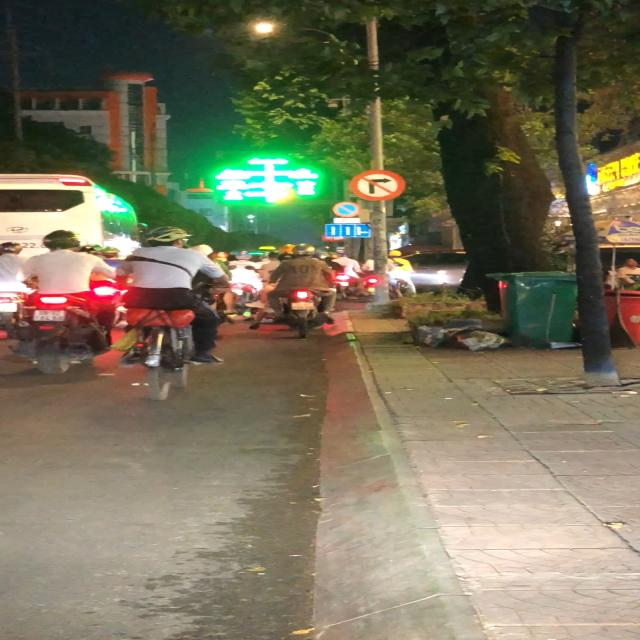Bien bao cam re phai: (346, 170, 406, 201)
